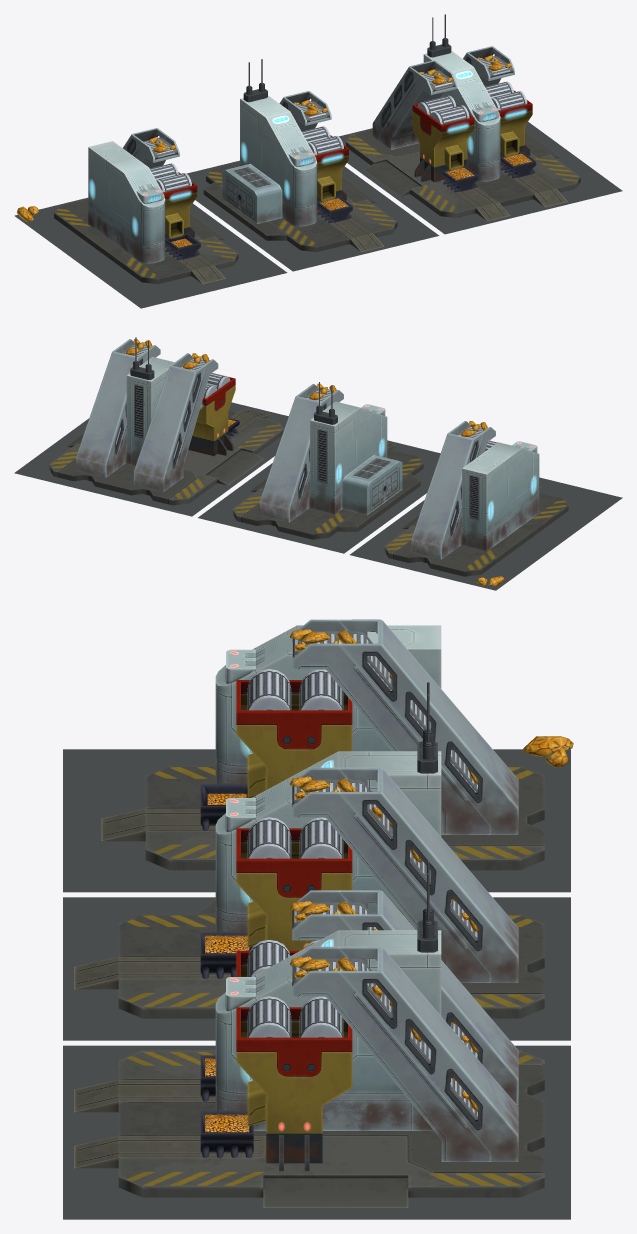
The model's file is space_gold_mine_top2.glb.
The picture shows the model from 3 angles, top to bottom: view 1: azimuth 30°, elevation 25°; view 2: azimuth 150°, elevation 25°; view 3: azimuth 270°, elevation 25°; orthographic projection. The views are drawn at different scales.
Visible parts, largest first — view 1: Cube.013_low_267, Cube_low.002_292, Cube.003_low_247, Base_min.001_127, Cube_low_268, Cube_low.003_248, Base_min_119, Cube.013_low.001_291, Base_123, Cube.011_low.002_290, Cube.006_low.003_316, Cube.006_low.002_286 (+14 smaller); view 2: Cube.011_low.002_290, Cube.013_low_267, Cube.003_low_247, Cube_low.002_292, Base_min.001_127, Cube.002_low_246, Cube.011_low_266, Base_min_119, Cube_low_268, Cube_low.003_248, Base_123, Cube.013_low.001_291 (+2 smaller); view 3: Cube_low.002_292, Cube.011_low.002_290, Base_123, Base_min.001_127, Cube.011_low_266, Cube.002_low_246, Base_min_119, Cube.013_low.001_291, Cube_low_268, Cube_low.003_248, Cube.006_low.002_286, Cube.013_low_267 (+18 smaller).
Boxes of the visible parts, bbox=[...] form: Cube.013_low_267: bbox=[222, 59, 317, 226]; Cube_low.002_292: bbox=[346, 130, 580, 221]; Cube.003_low_247: bbox=[88, 141, 165, 263]; Base_min.001_127: bbox=[14, 197, 287, 308]; Cube_low_268: bbox=[203, 162, 397, 251]; Cube_low.003_248: bbox=[54, 199, 238, 284]; Base_min_119: bbox=[187, 160, 439, 271]; Cube.013_low.001_291: bbox=[423, 14, 500, 181]; Base_123: bbox=[339, 122, 622, 234]; Cube.011_low.002_290: bbox=[372, 46, 514, 149]; Cube.006_low.003_316: bbox=[412, 103, 474, 182]; Cube.006_low.002_286: bbox=[498, 90, 532, 165]; Cube.011_low.002_290: bbox=[76, 339, 218, 491]; Cube.013_low_267: bbox=[310, 382, 402, 515]; Cube.003_low_247: bbox=[462, 441, 539, 551]; Cube_low.002_292: bbox=[49, 409, 283, 505]; Base_min.001_127: bbox=[350, 477, 622, 590]; Cube.002_low_246: bbox=[411, 421, 495, 559]; Cube.011_low_266: bbox=[259, 384, 337, 522]; Base_min_119: bbox=[198, 440, 440, 553]; Cube_low_268: bbox=[232, 443, 423, 539]; Cube_low.003_248: bbox=[384, 487, 568, 576]; Base_123: bbox=[14, 402, 288, 516]; Cube.013_low.001_291: bbox=[126, 337, 174, 465]; Cube_low.002_292: bbox=[74, 1050, 544, 1207]; Cube.011_low.002_290: bbox=[292, 890, 518, 1161]; Base_123: bbox=[63, 1045, 570, 1219]; Base_min.001_127: bbox=[63, 749, 570, 892]; Cube.011_low_266: bbox=[292, 767, 518, 982]; Cube.002_low_246: bbox=[292, 619, 518, 834]; Base_min_119: bbox=[63, 897, 570, 1040]; Cube.013_low.001_291: bbox=[215, 861, 441, 1130]; Cube_low_268: bbox=[74, 899, 544, 1018]; Cube_low.003_248: bbox=[101, 765, 544, 870]; Cube.006_low.002_286: bbox=[236, 1007, 352, 1171]; Cube.013_low_267: bbox=[215, 682, 441, 932].
Size of the model in its own units: 23 by 5.97 by 10.56.
Materials: 5 (4 with a texture image).
